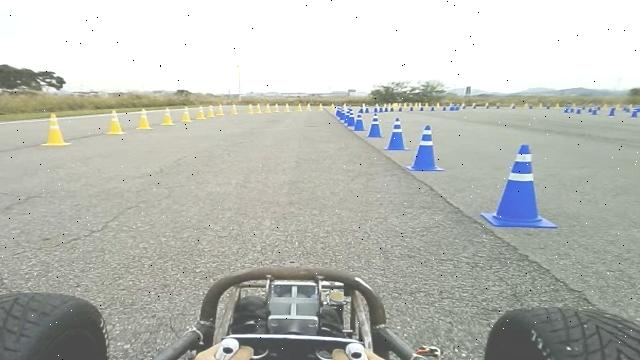blue cone: (480, 143, 558, 228), (406, 124, 446, 172), (384, 117, 411, 151), (366, 113, 384, 138), (353, 114, 366, 131)
yellow cone: (41, 113, 72, 146), (105, 109, 127, 135), (136, 108, 154, 129), (161, 107, 175, 125), (196, 108, 207, 120), (206, 105, 216, 117), (216, 103, 225, 115), (230, 103, 239, 114), (255, 102, 263, 113), (265, 102, 272, 113), (247, 103, 254, 114), (273, 102, 280, 113)
